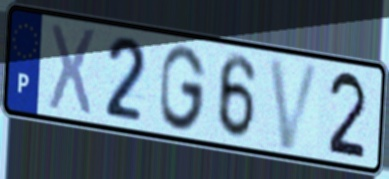2: (101, 34, 150, 126), (326, 69, 368, 163)
6: (216, 51, 261, 143)
G: (157, 42, 209, 133)
V: (266, 55, 325, 153)
X: (46, 20, 100, 121)
